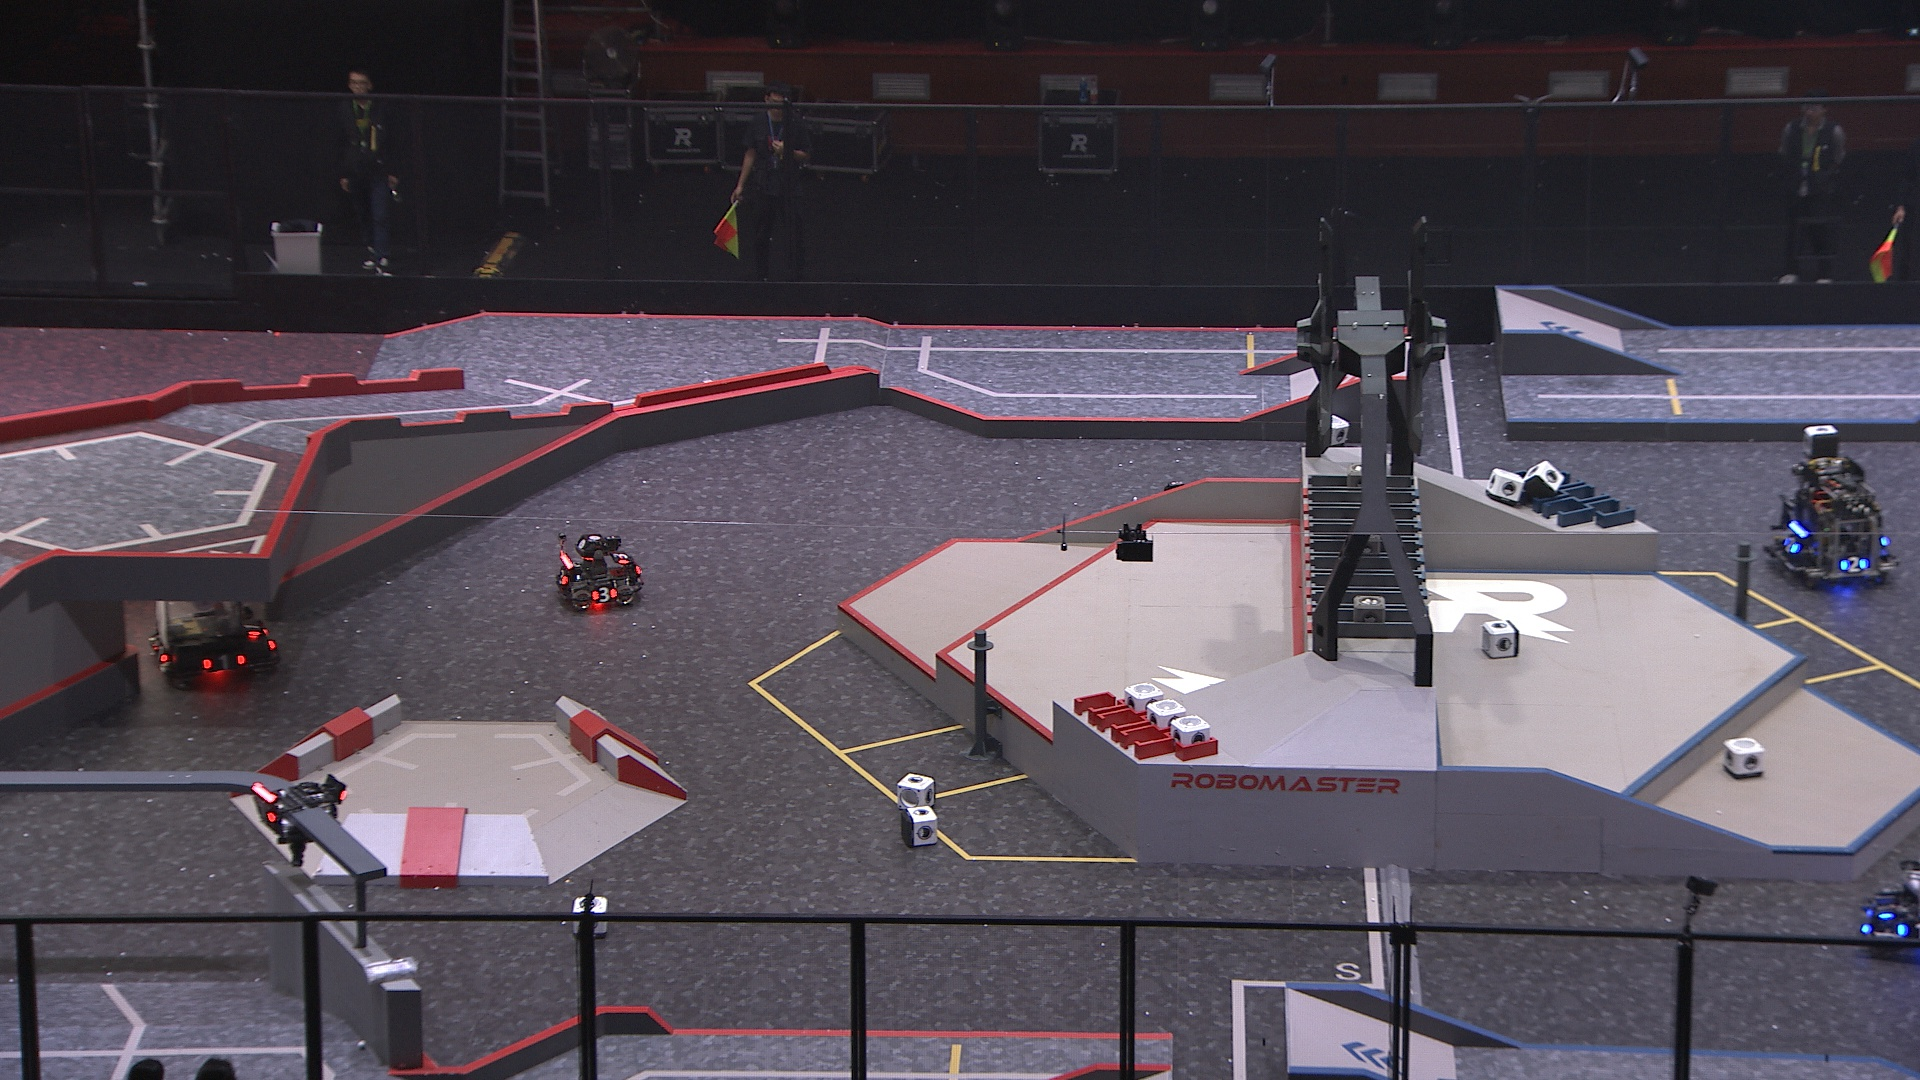armor: (204, 654, 243, 674), (252, 802, 276, 823), (1840, 555, 1873, 570), (1782, 534, 1801, 556), (593, 585, 618, 603), (152, 641, 169, 665), (244, 617, 262, 637), (556, 568, 570, 591), (613, 549, 629, 564)
car: (141, 542, 284, 684), (1768, 451, 1899, 589), (550, 529, 645, 615), (1855, 858, 1920, 956)
watcher: (249, 771, 351, 865)
